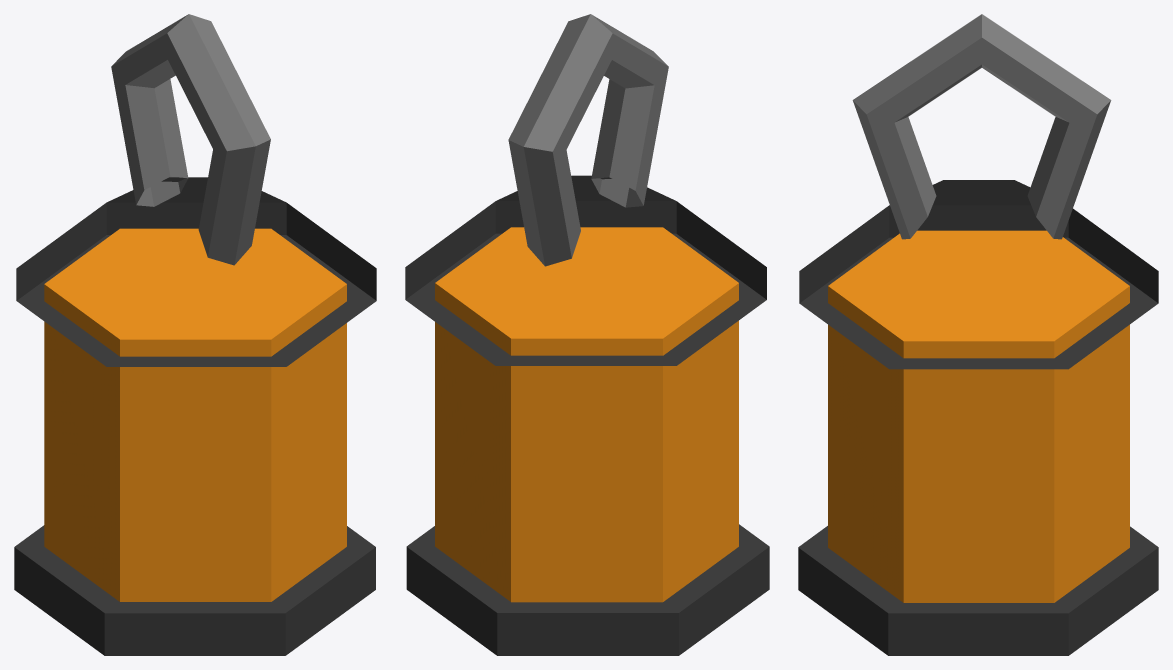
Rendered from LanternHandle.fbx.
3 views of the same model, side by side, from view 1: azimuth 30°, elevation 25°; view 2: azimuth 150°, elevation 25°; view 3: azimuth 270°, elevation 25° (orthographic).
Visible parts, largest first — view 1: Cube.001; view 2: Cube.001; view 3: Cube.001.
Boxes of the visible parts, box(x1,y1,x2,y2) form: Cube.001: box(14, 14, 376, 655); Cube.001: box(405, 14, 769, 655); Cube.001: box(798, 14, 1158, 655).
Size of the model in its own units: 40.82 by 82.41 by 46.94.
